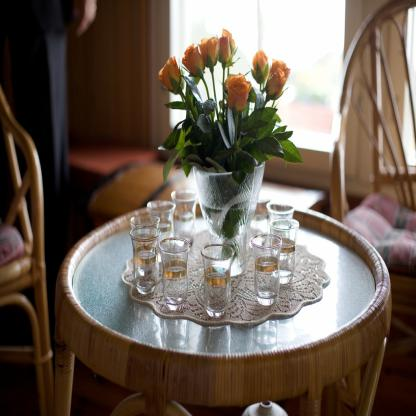vase: (193, 158, 264, 276)
